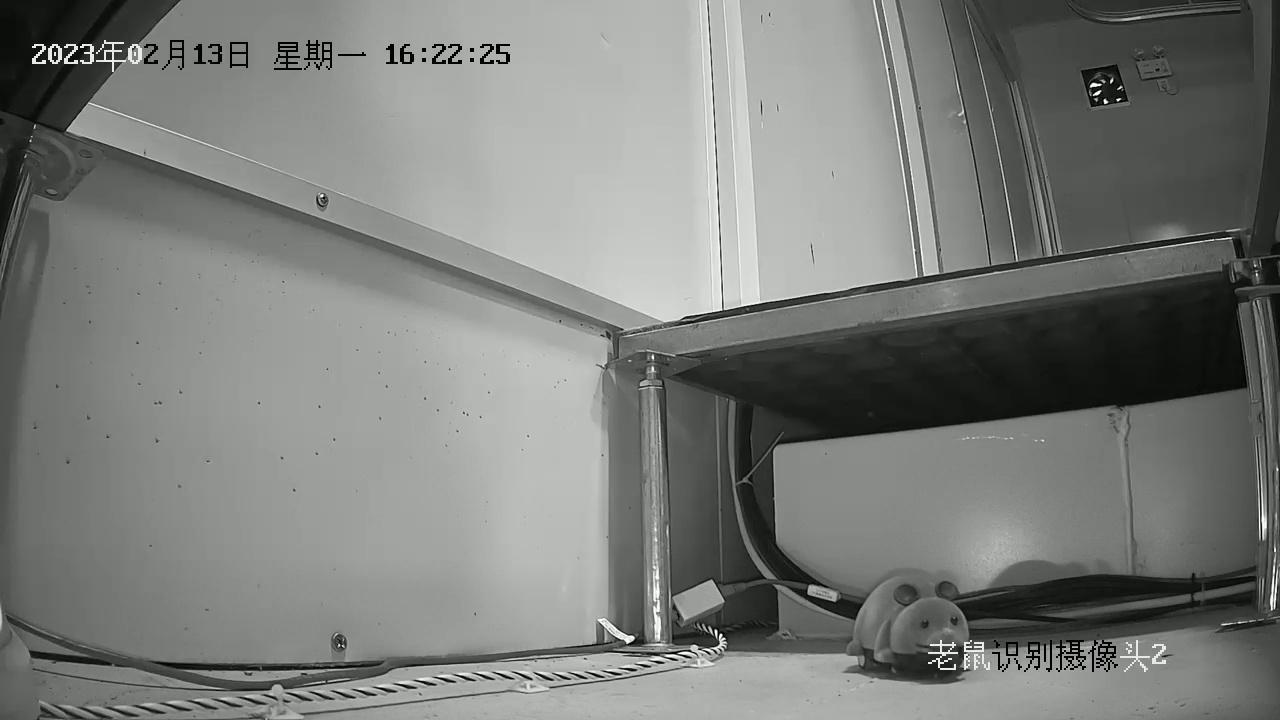rat: (848, 577, 971, 672)
